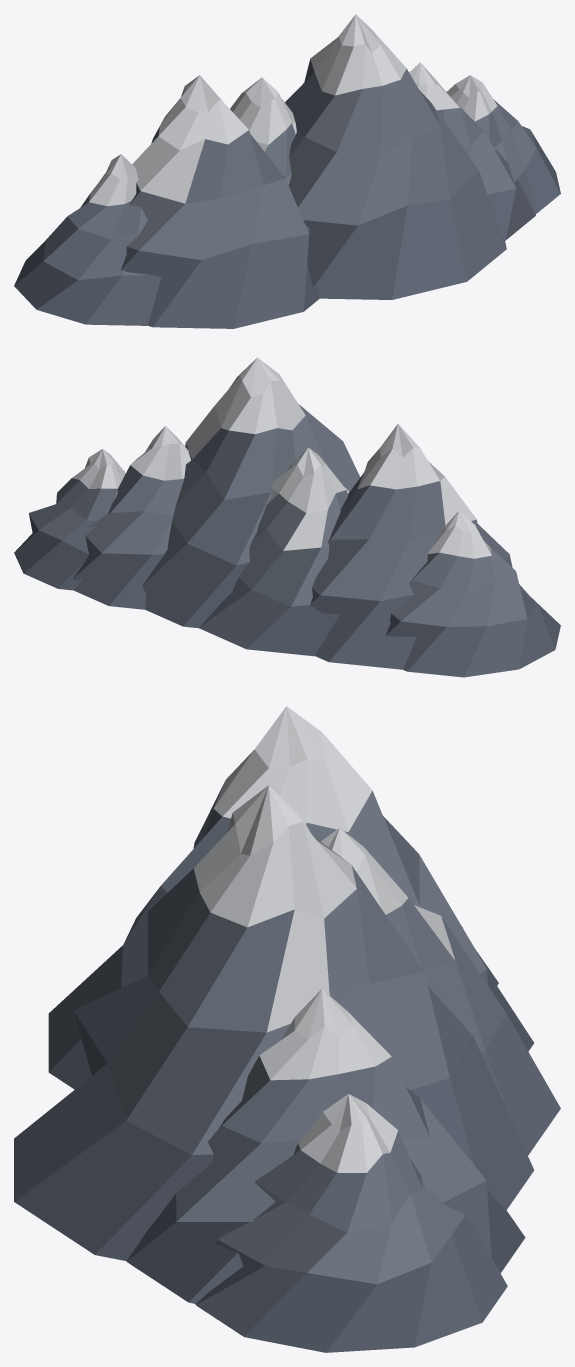
Rendered from mountains.glb.
3 renders of one model, top to bottom at view 1: azimuth 30°, elevation 25°; view 2: azimuth 150°, elevation 25°; view 3: azimuth 270°, elevation 25°, orthographic. The views are drawn at different scales.
Visible parts, largest first — view 1: mountains; view 2: mountains; view 3: mountains.
Boxes of the visible parts, x1=… form: mountains: x1=14, y1=14, x2=560, y2=328; mountains: x1=14, y1=357, x2=560, y2=677; mountains: x1=14, y1=706, x2=560, y2=1352.
Bounding box in the file's own units: 239 × 95.99 × 124.
